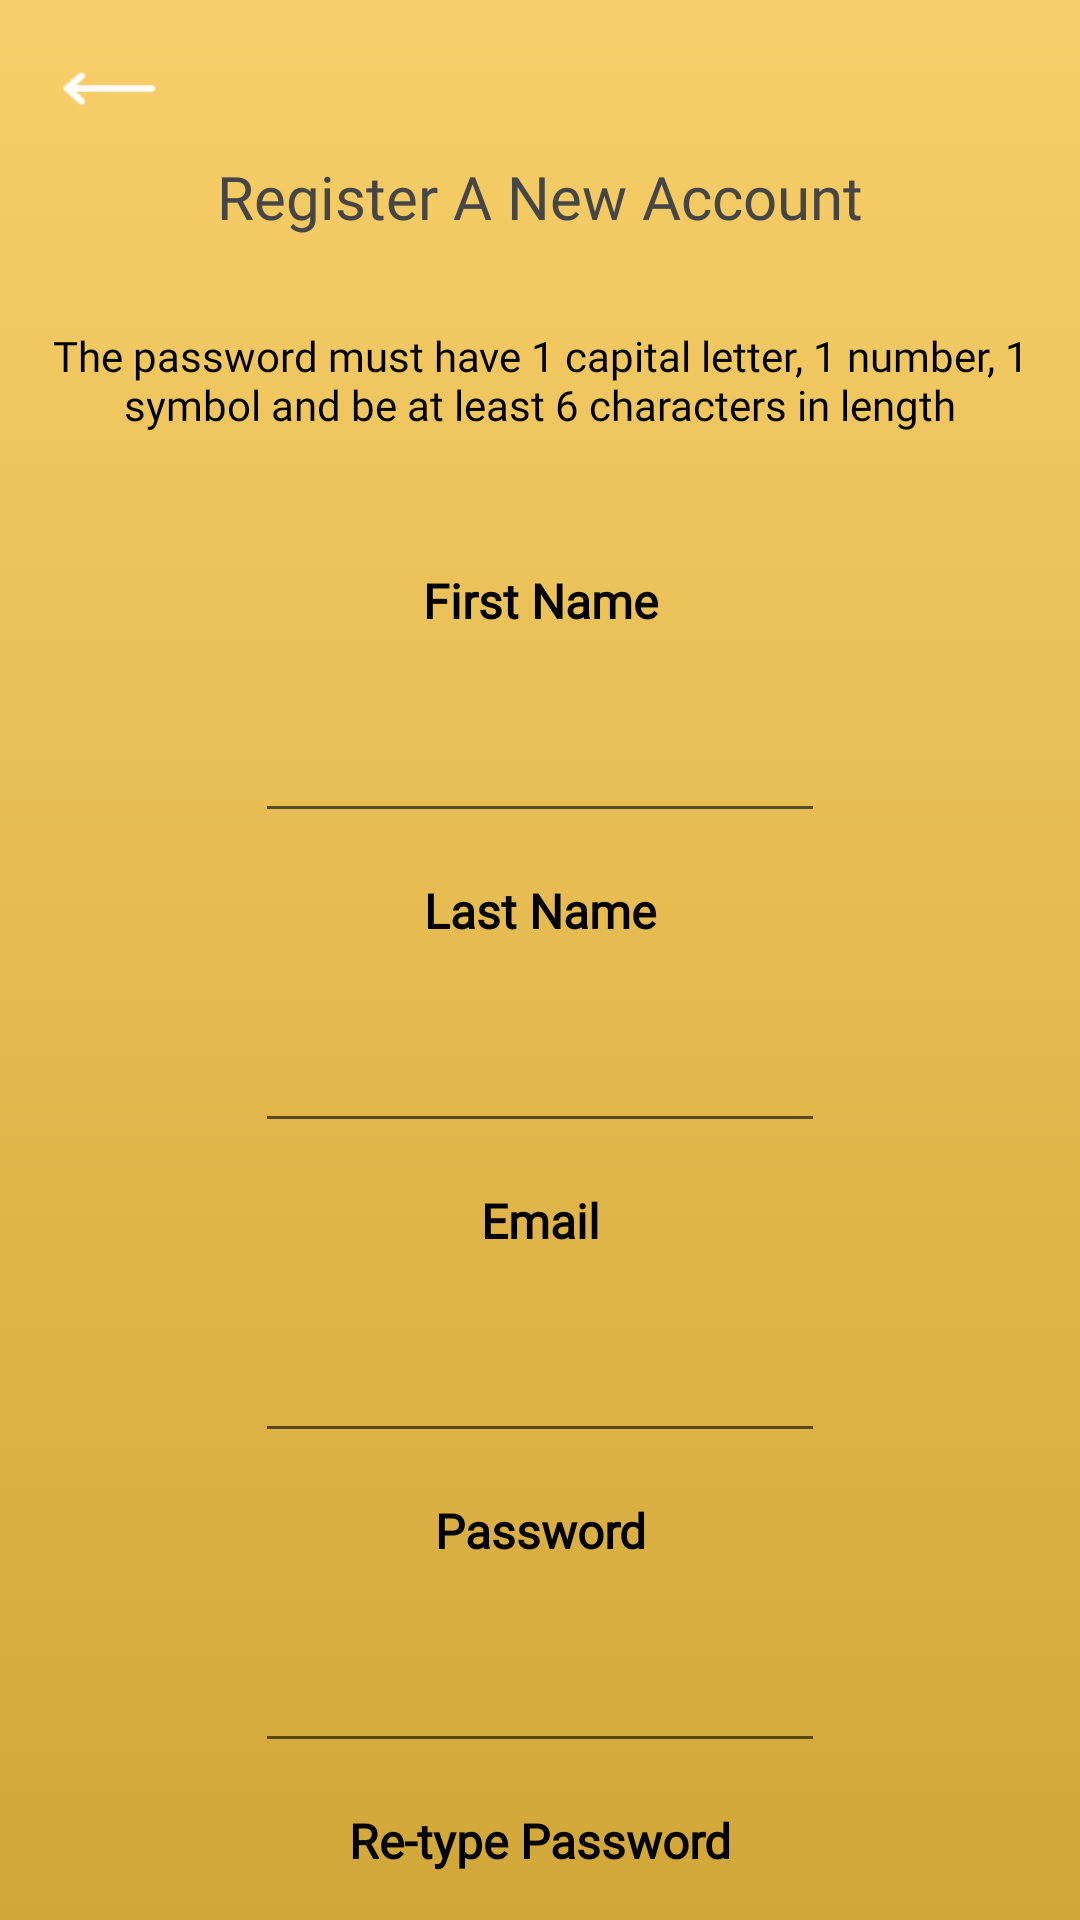

Where to tap for icons on this 1080×1920 app screen, as (x,y):
backarrow: (109,88)
